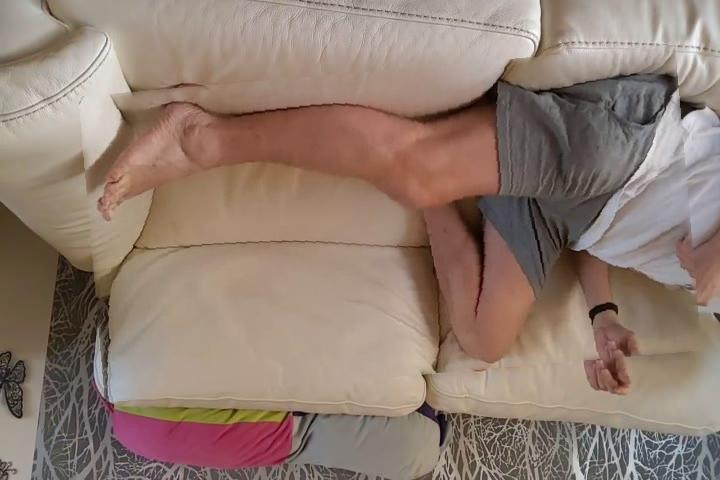lowerbody: (85, 58, 696, 391)
